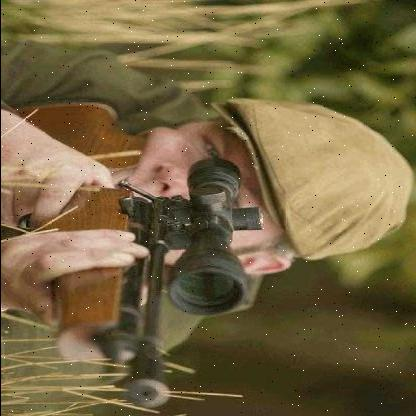rifle: (1, 89, 274, 415)
